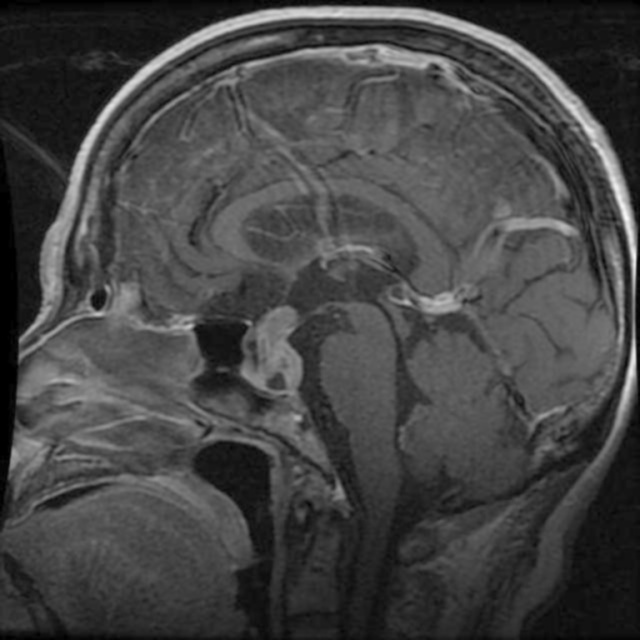no tumor: (240, 299, 302, 395)
